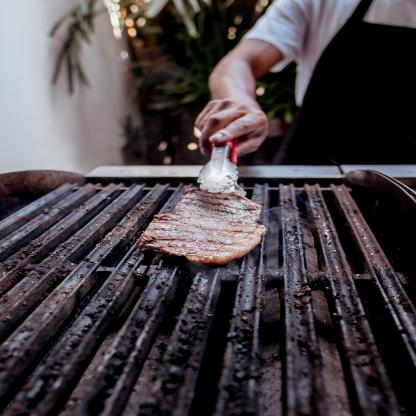Carne: (142, 189, 262, 264)
